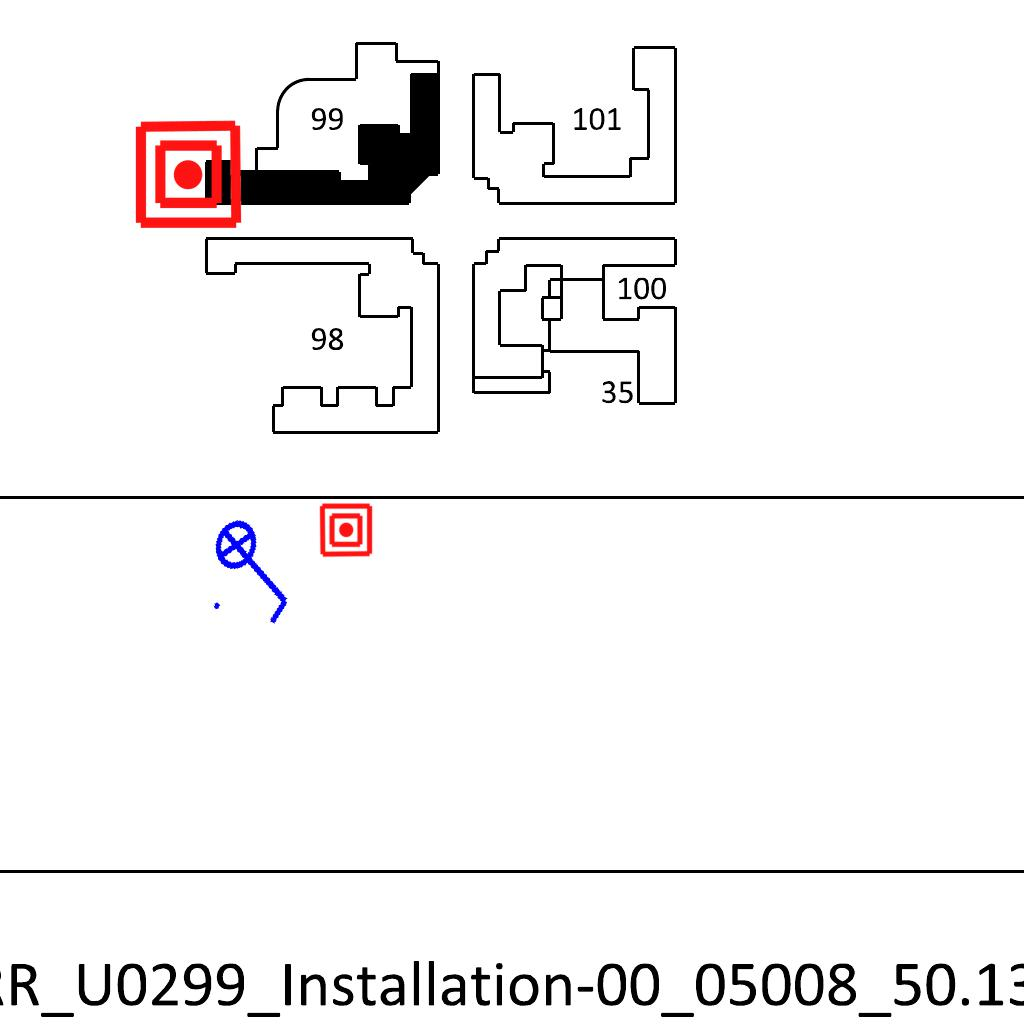Ausschalter_beleuchtet: (193, 501, 319, 637)
NAM-Nichtautomatischer_Melder: (132, 118, 245, 231), (318, 502, 374, 558)
